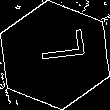L_W: (26, 36, 84, 74)
